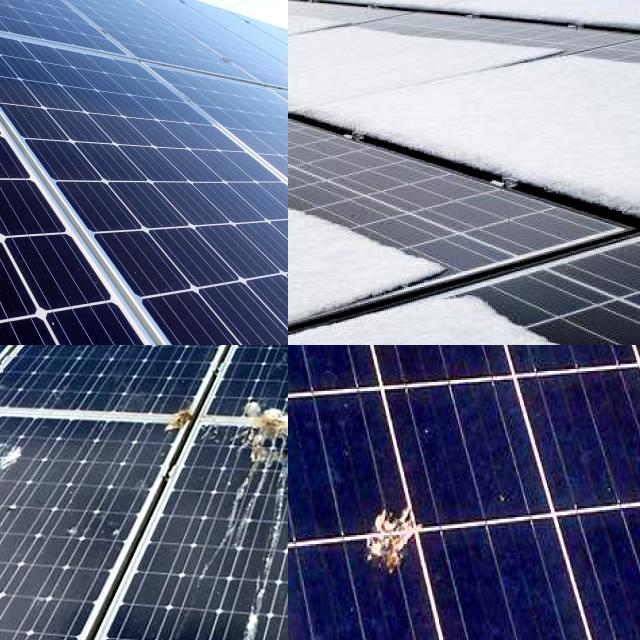bird: (360, 493, 432, 596), (0, 437, 58, 539), (232, 386, 288, 490), (143, 345, 208, 389), (30, 345, 114, 378), (146, 617, 245, 640), (221, 345, 288, 370), (160, 406, 210, 438)
crack: (0, 0, 288, 345), (0, 0, 230, 345), (0, 0, 288, 122), (0, 0, 167, 125)
panel: (288, 40, 432, 172), (448, 122, 632, 224), (330, 214, 502, 319), (416, 0, 578, 64), (452, 288, 620, 345), (288, 0, 423, 41), (288, 304, 420, 345), (288, 107, 344, 200), (576, 12, 640, 90), (288, 34, 349, 112), (288, 176, 362, 237), (478, 0, 640, 21), (288, 0, 454, 18), (288, 0, 341, 33), (288, 0, 325, 22)
